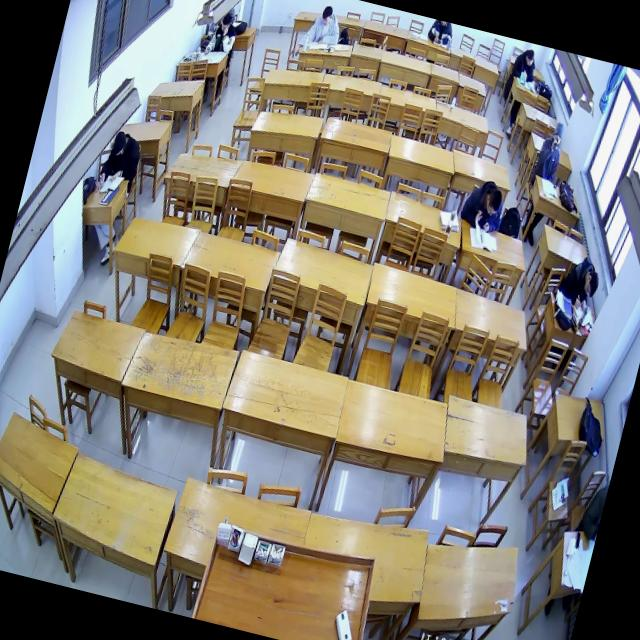bow: (297, 0, 347, 55)
down: (579, 268, 602, 302), (108, 128, 130, 160), (318, 3, 335, 29), (218, 10, 234, 34), (522, 48, 537, 70)
lookup: (550, 120, 566, 148)
sit: (456, 172, 512, 236), (553, 250, 605, 315), (96, 126, 146, 192), (530, 118, 570, 184), (202, 8, 242, 62), (508, 44, 540, 84)
